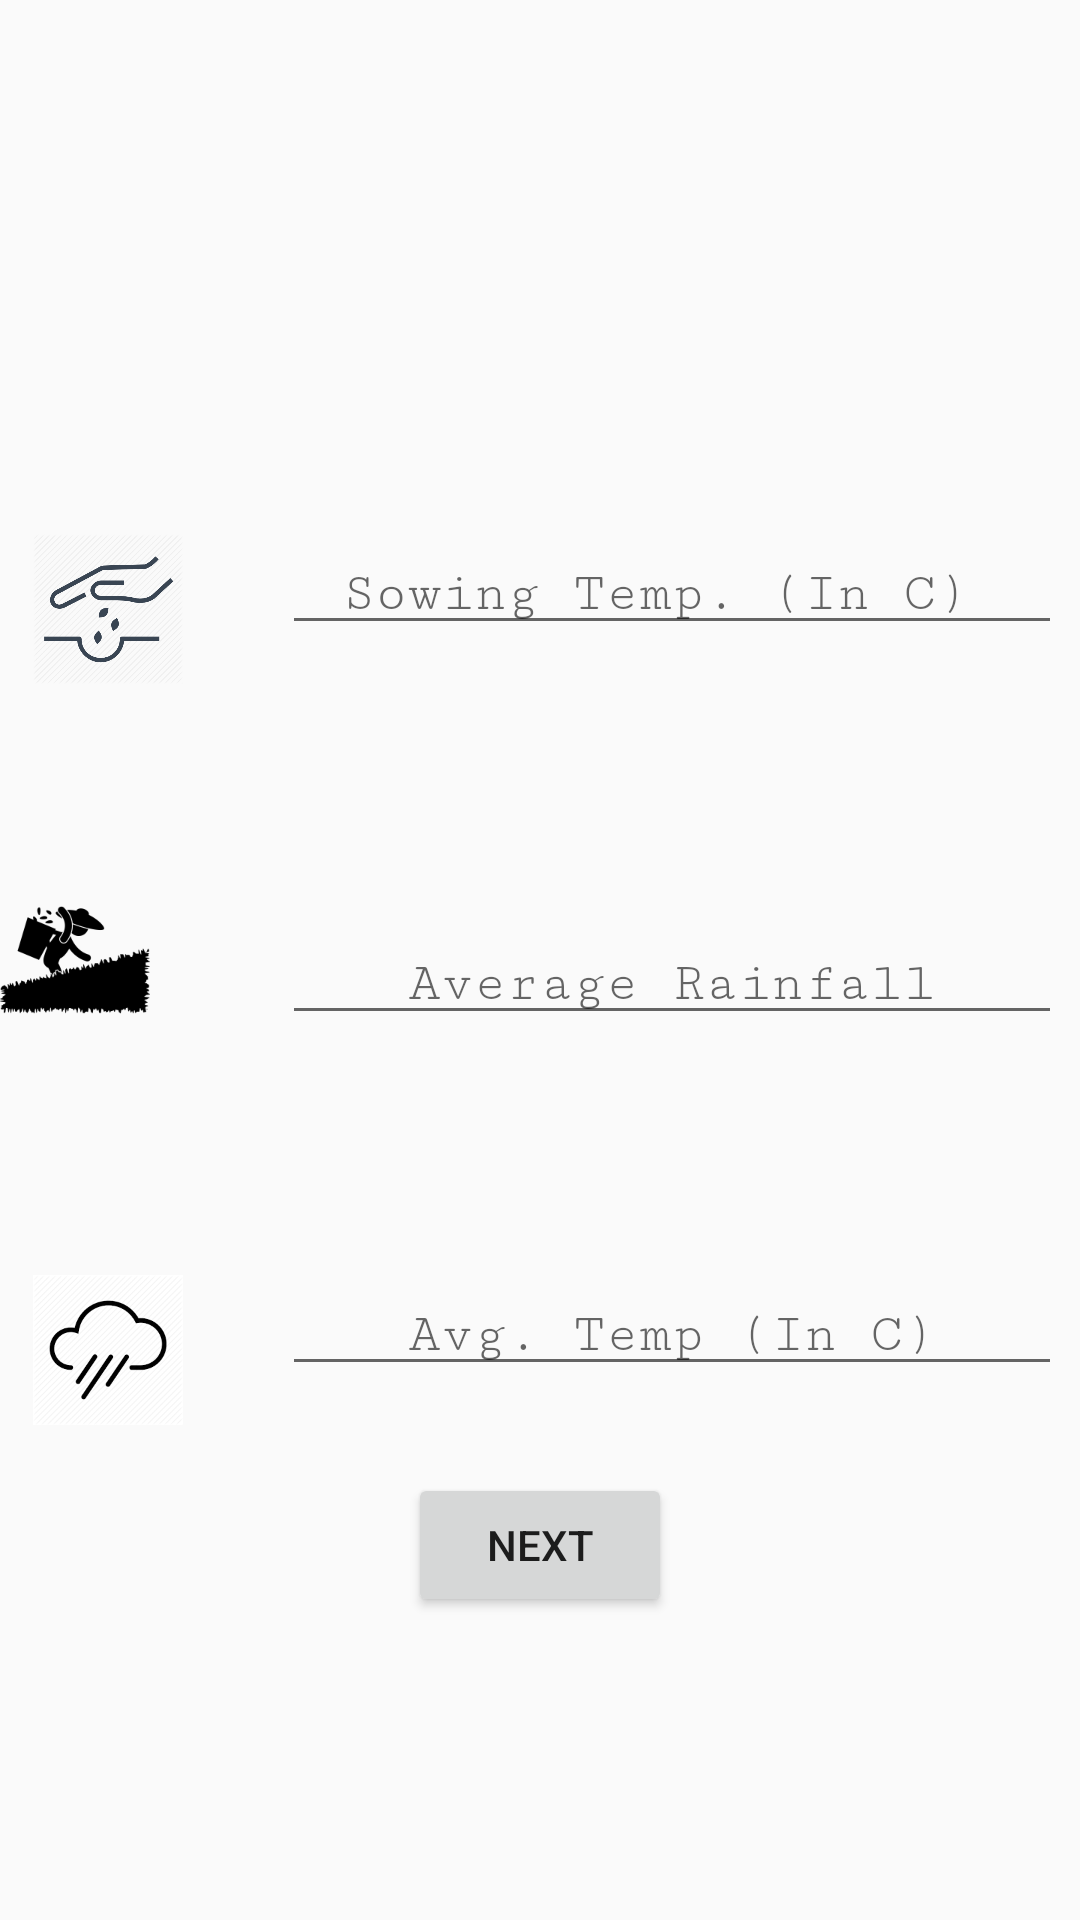

Icon bounding boxes for this 1080 x 1920 phone screenshot, format (x1, y1, x2, y2):
harvest: (0, 906, 150, 1014)
rain: (49, 1300, 167, 1400)
